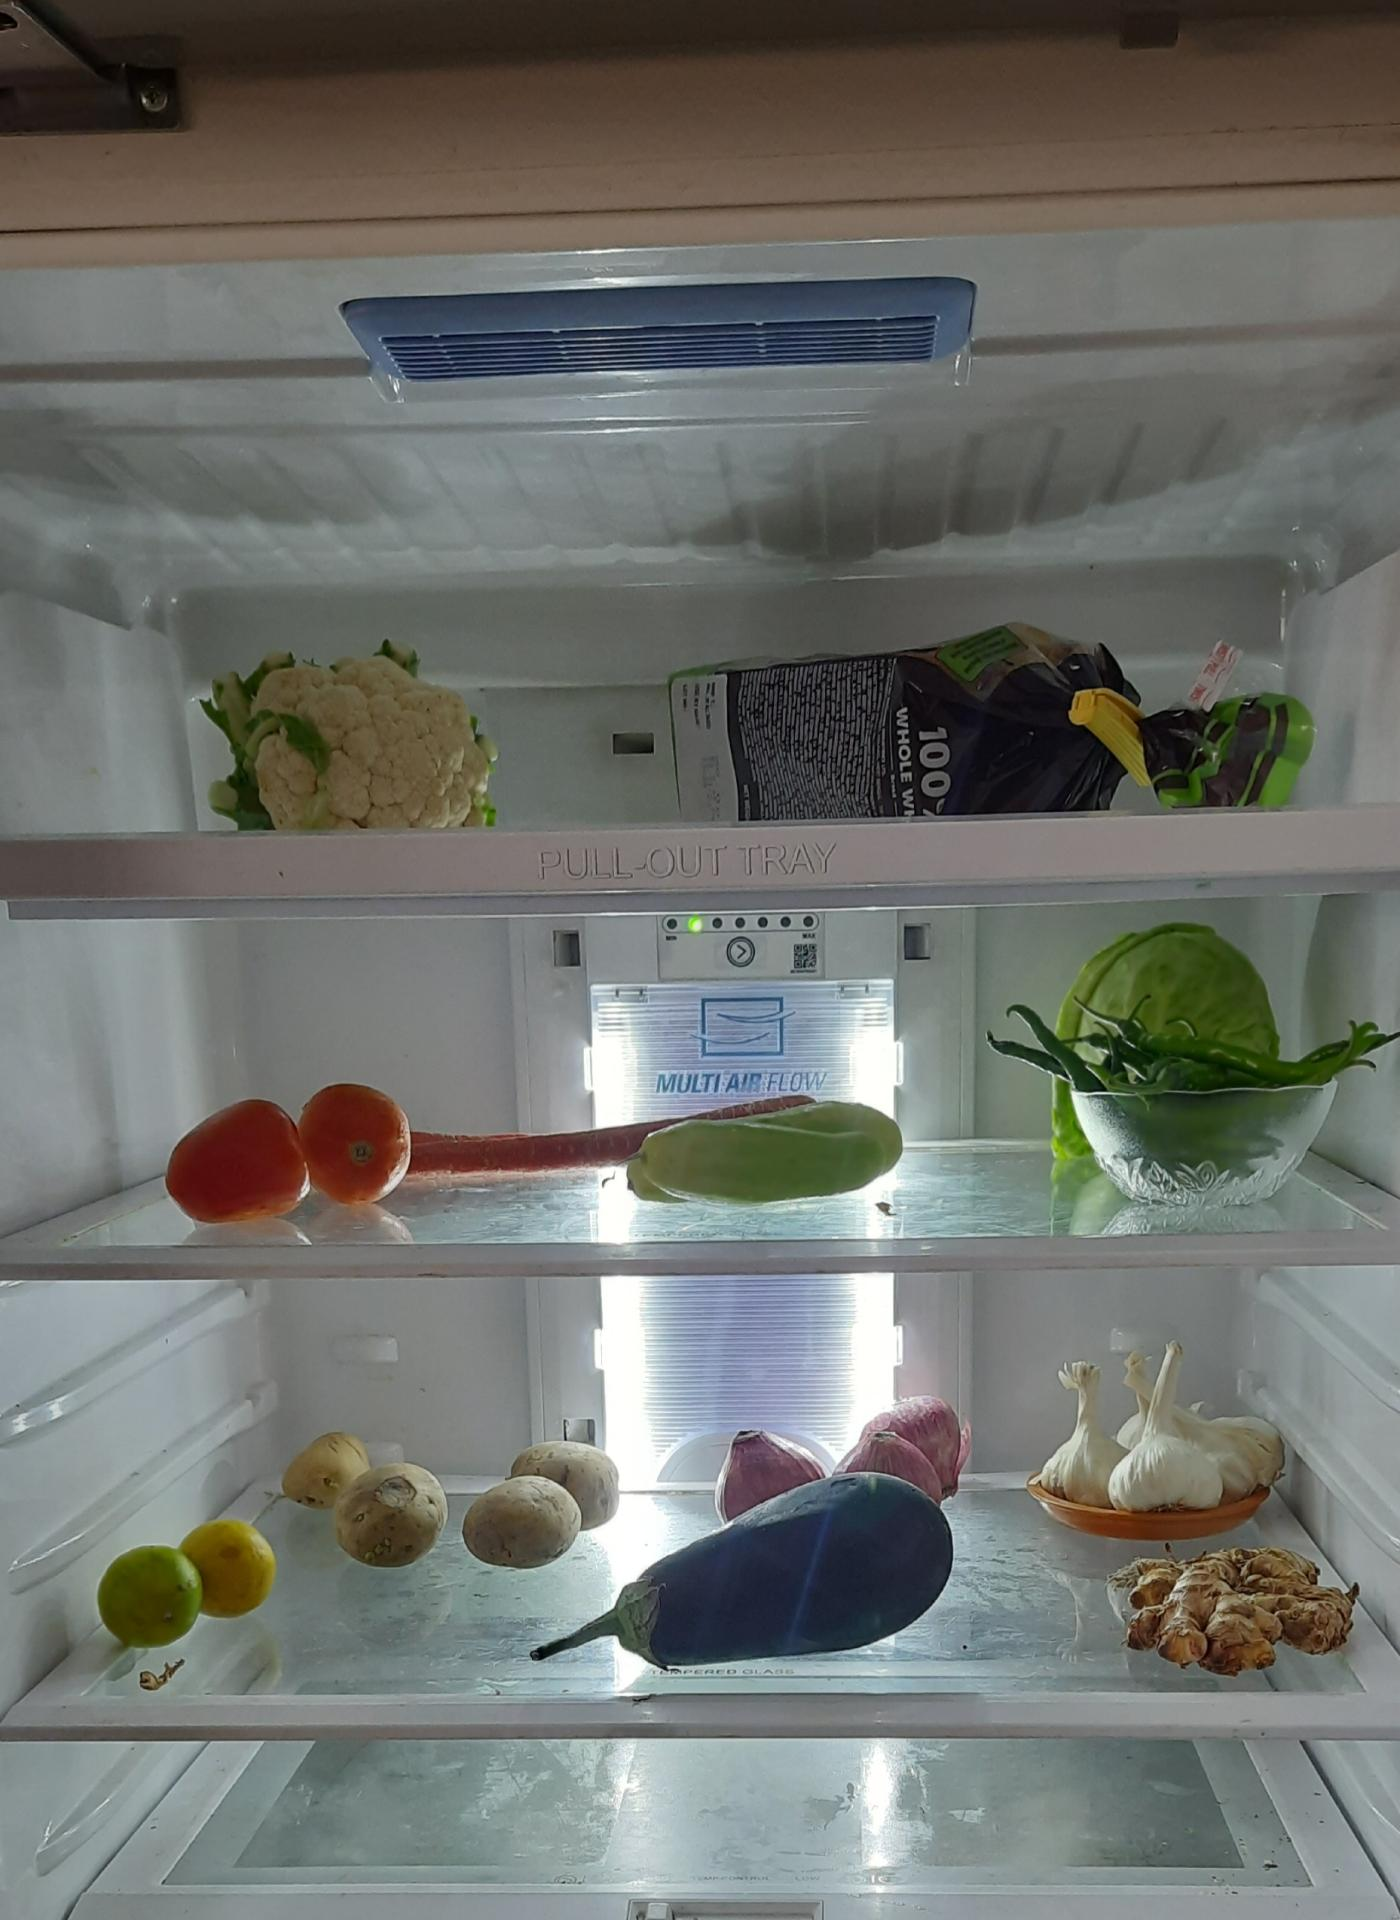bread: (666, 622, 1324, 818)
brinjal: (520, 1467, 962, 1665)
cabbage: (1051, 915, 1269, 1178)
carrots: (409, 1108, 848, 1170)
cauliflower: (191, 637, 510, 832)
chillies: (993, 1008, 1391, 1093)
cucumber: (629, 1088, 892, 1213)
garlic: (1027, 1354, 1291, 1506)
ginger: (1111, 1546, 1372, 1671)
lemon: (100, 1529, 280, 1650)
onion: (698, 1394, 972, 1526)
potato: (277, 1415, 626, 1570)
tomato: (174, 1084, 416, 1224)
